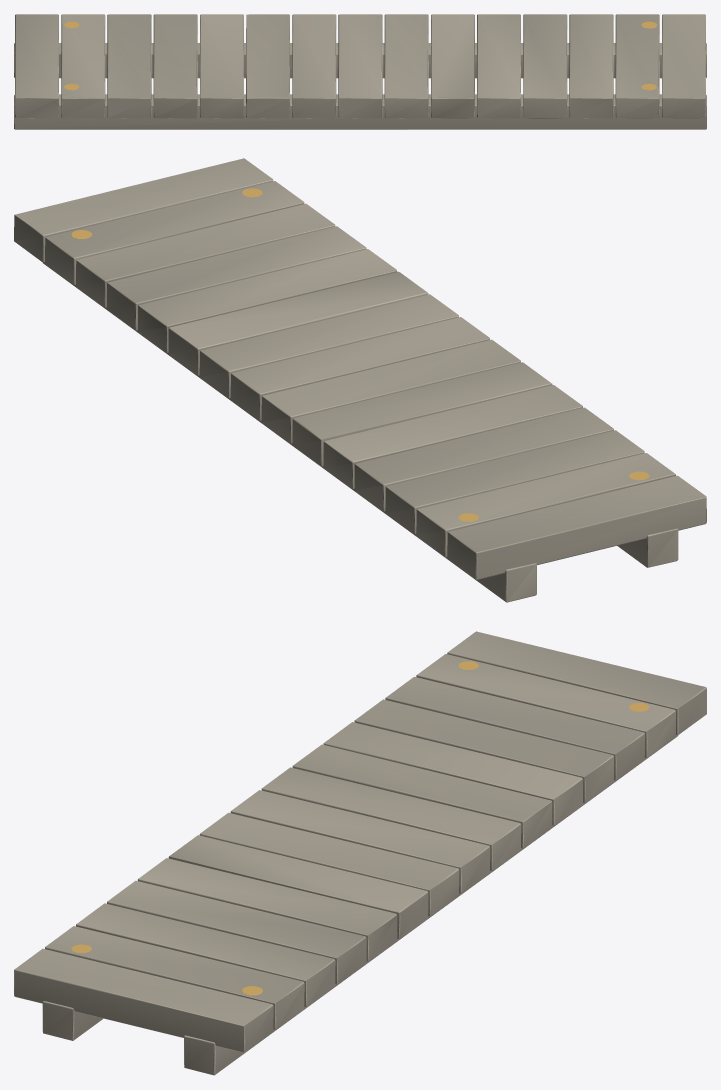
File: pirate_road_m30.glb
3 renders of one model, top to bottom at view 1: azimuth 30°, elevation 25°; view 2: azimuth 150°, elevation 25°; view 3: azimuth 270°, elevation 25°, orthographic. The views are drawn at different scales.
Visible parts, largest first — view 1: WoodBody, BrassTrim; view 2: WoodBody; view 3: WoodBody.
Boxes of the visible parts, x1=… form: WoodBody: x1=14, y1=14, x2=706, y2=129; BrassTrim: x1=64, y1=21, x2=656, y2=90; WoodBody: x1=14, y1=158, x2=706, y2=602; WoodBody: x1=14, y1=631, x2=706, y2=1075.
Bounding box in the file's own units: 0.6638 × 0.045 × 0.4925.
